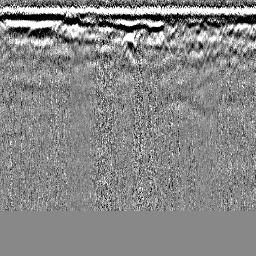cavity: (120, 33, 136, 52)
